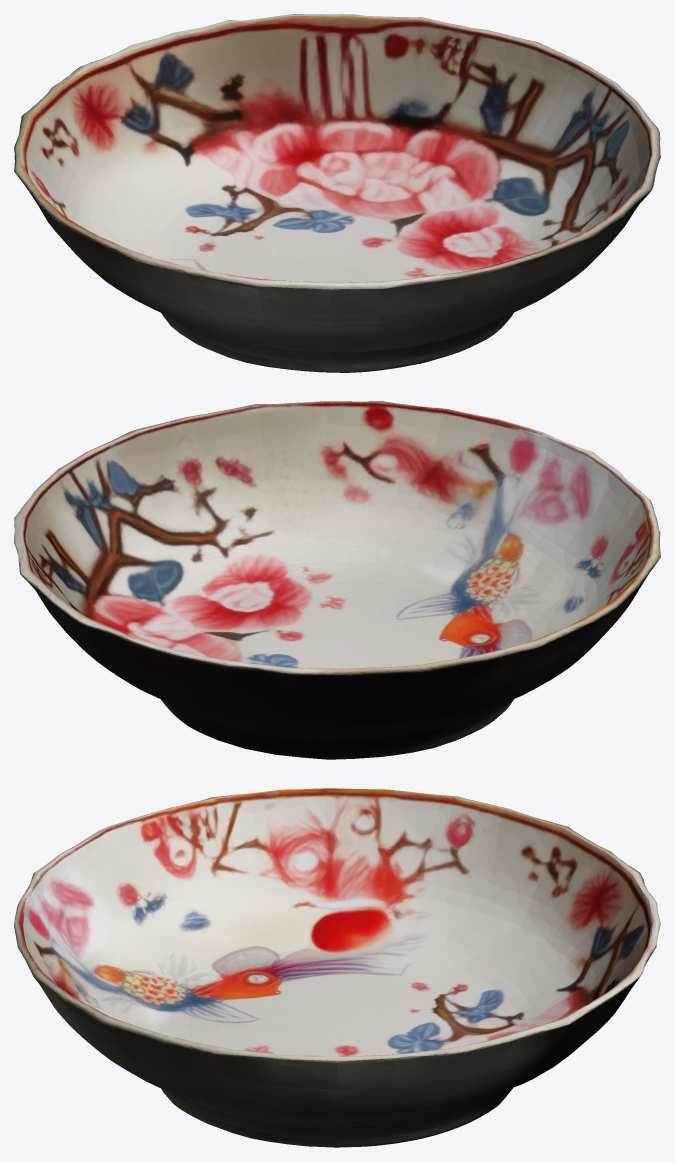
File: porcelain-dish-japanese.jpeg.glb
The picture shows the model from 3 angles, top to bottom: view 1: azimuth 30°, elevation 25°; view 2: azimuth 150°, elevation 25°; view 3: azimuth 270°, elevation 25°; orthographic projection.
Visible parts, largest first — view 1: world; view 2: world; view 3: world.
Part boxes in pixels (<box>): world: <box>14,14,660,372</box>; world: <box>14,401,660,759</box>; world: <box>14,788,660,1147</box>.
Size of the model in its own units: 0.9988 by 0.2599 by 0.9986.
1 material, 1 textured.
